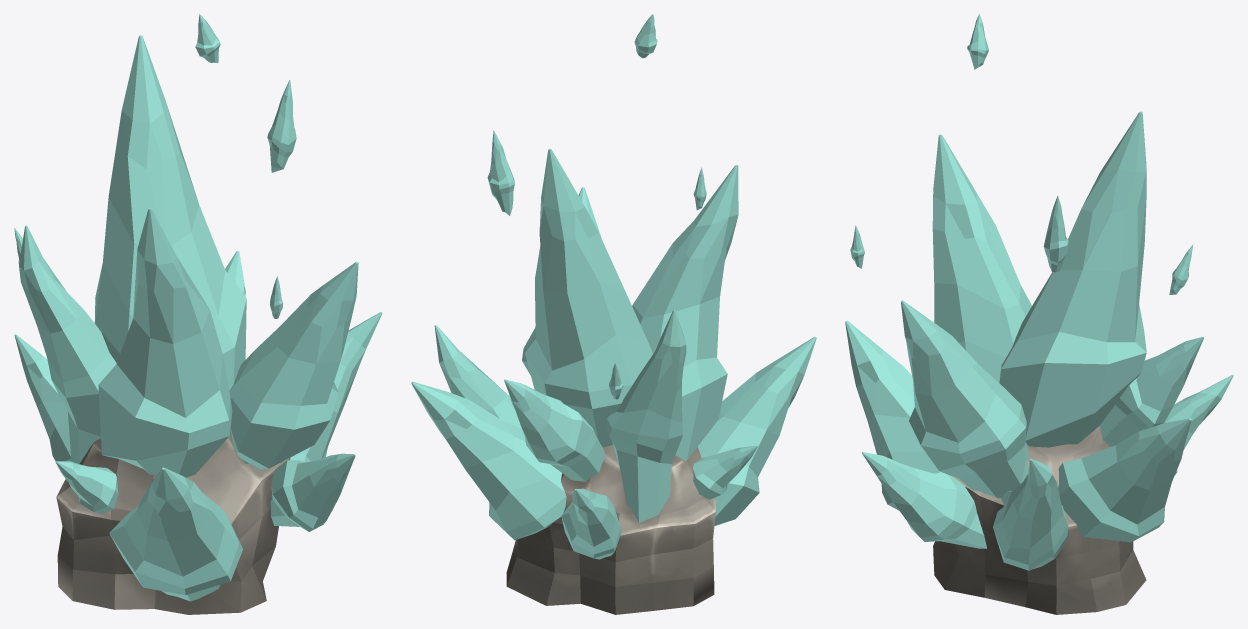
Rendered from 6thystame.glb.
The picture shows the model from 3 angles, left to right: view 1: azimuth 30°, elevation 25°; view 2: azimuth 150°, elevation 25°; view 3: azimuth 270°, elevation 25°; orthographic projection. The views are drawn at different scales.
Visible parts, largest first — view 1: Object_14.004; view 2: Object_14.004; view 3: Object_14.004.
Part boxes in pixels (x1,y1,x2,y2): Object_14.004: [14, 14, 382, 614]; Object_14.004: [411, 14, 816, 614]; Object_14.004: [845, 14, 1233, 614].
Size of the model in its own units: 0.7045 by 1.16 by 0.74.
2 materials, 1 textured.
